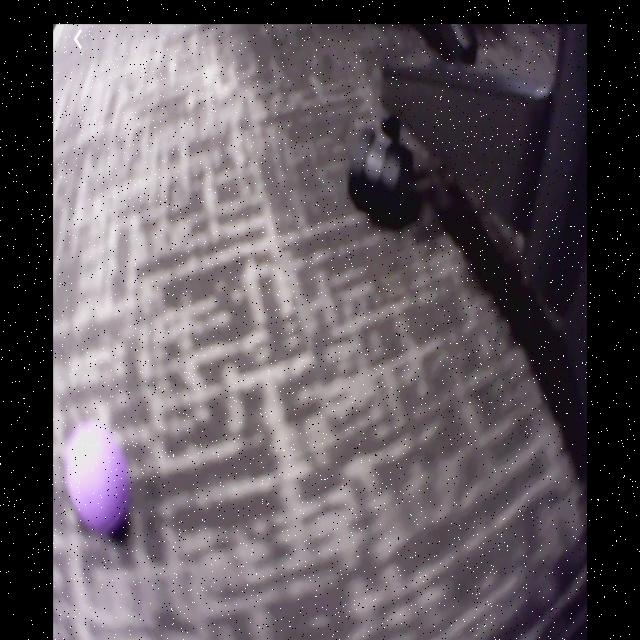ball: (69, 421, 127, 530)
